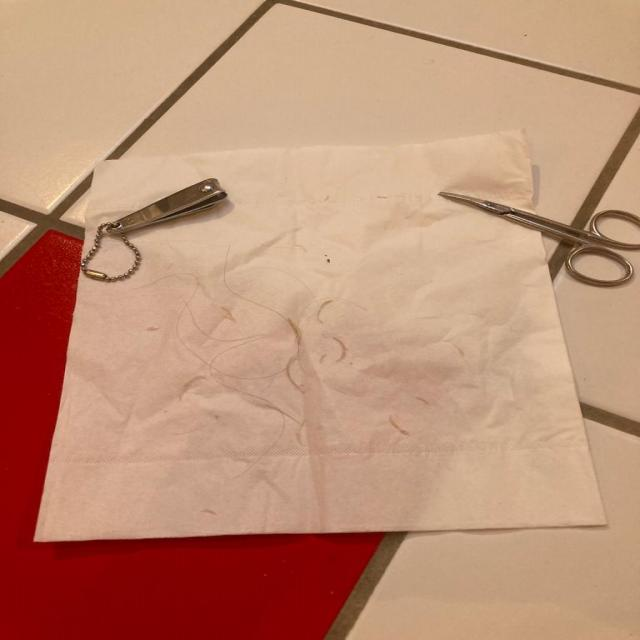kitchen paper: (31, 128, 615, 545)
